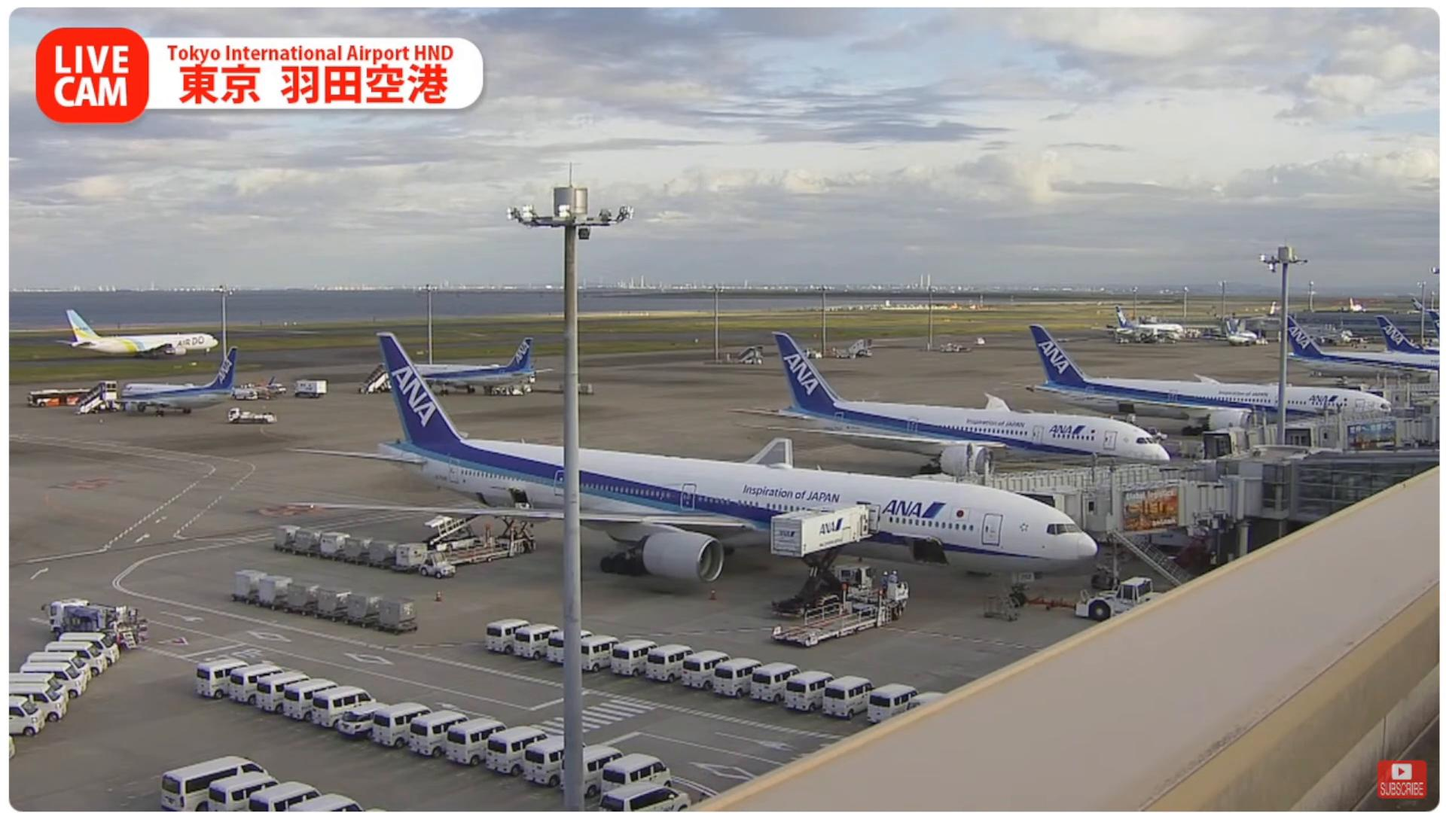APS: (1079, 573, 1169, 620)
Aerobridge: (937, 438, 1217, 490), (1025, 480, 1229, 535)
Airplane: (279, 328, 1098, 610)
Catering: (770, 502, 878, 618)
Dolly: (230, 597, 411, 649), (264, 537, 424, 580)
JCPL: (773, 573, 917, 648), (447, 519, 535, 571)
Skyloader: (416, 502, 490, 546)
Tractor: (416, 551, 461, 578)
Window: (1286, 455, 1435, 523)
